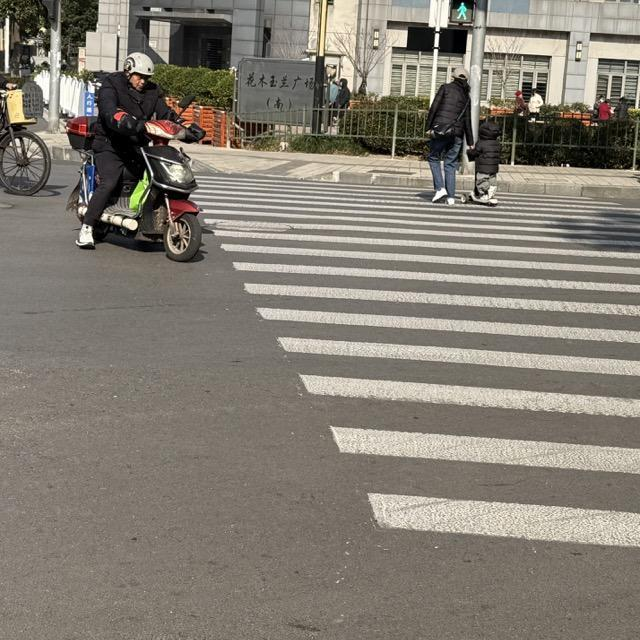curb: (499, 183, 639, 206), (322, 171, 430, 194), (51, 145, 79, 161), (191, 157, 220, 172), (459, 181, 469, 195)
